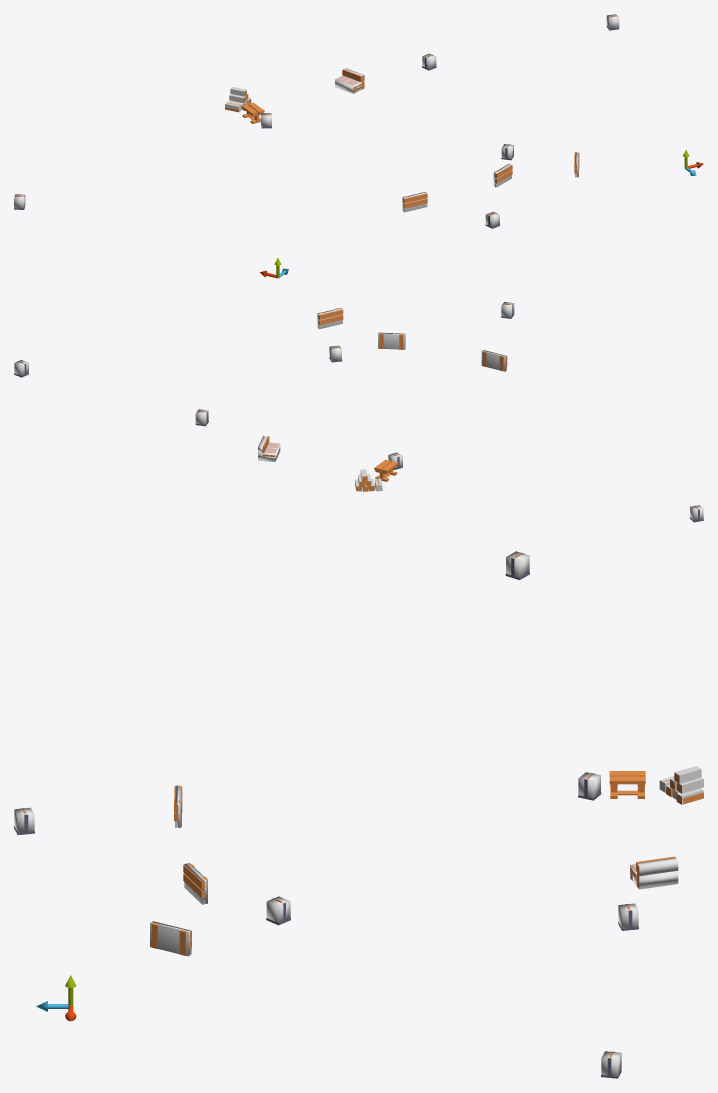
The model's file is sceneryDynamic.glb.
The picture shows the model from 3 angles, top to bottom: view 1: azimuth 30°, elevation 25°; view 2: azimuth 150°, elevation 25°; view 3: azimuth 270°, elevation 25°; orthographic projection. The views are drawn at different scales.
Visible parts, largest first — view 1: no part large enough to name; view 2: no part large enough to name; view 3: table, cube.005.
Boxes of the visible parts, box(x1,y1,x2,y2) form: table: box(609, 771, 645, 798); cube.005: box(150, 921, 191, 956).
Bounding box in the file's own units: 59.23 × 2.21 × 33.07.
